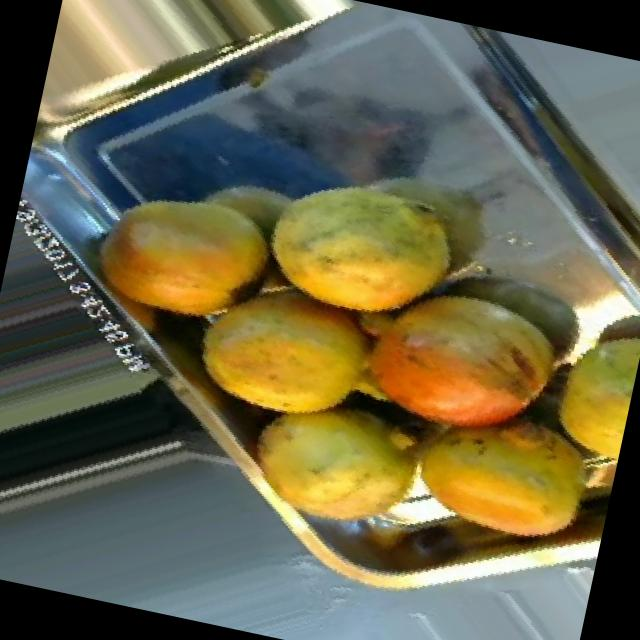fruit: (328, 246, 604, 488), (371, 373, 626, 580), (232, 147, 484, 354), (160, 248, 404, 458), (62, 154, 303, 362), (518, 286, 640, 492)
